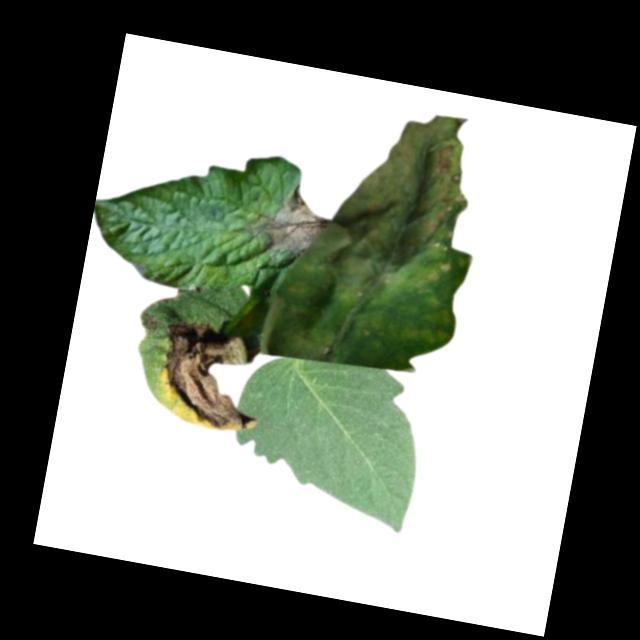Late_blight: (264, 91, 496, 382), (147, 316, 272, 435), (230, 170, 336, 265), (140, 311, 159, 332)
